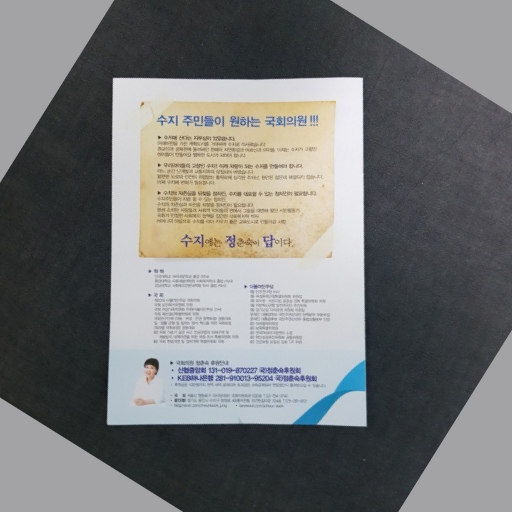Paper_2: (104, 73, 385, 446)
